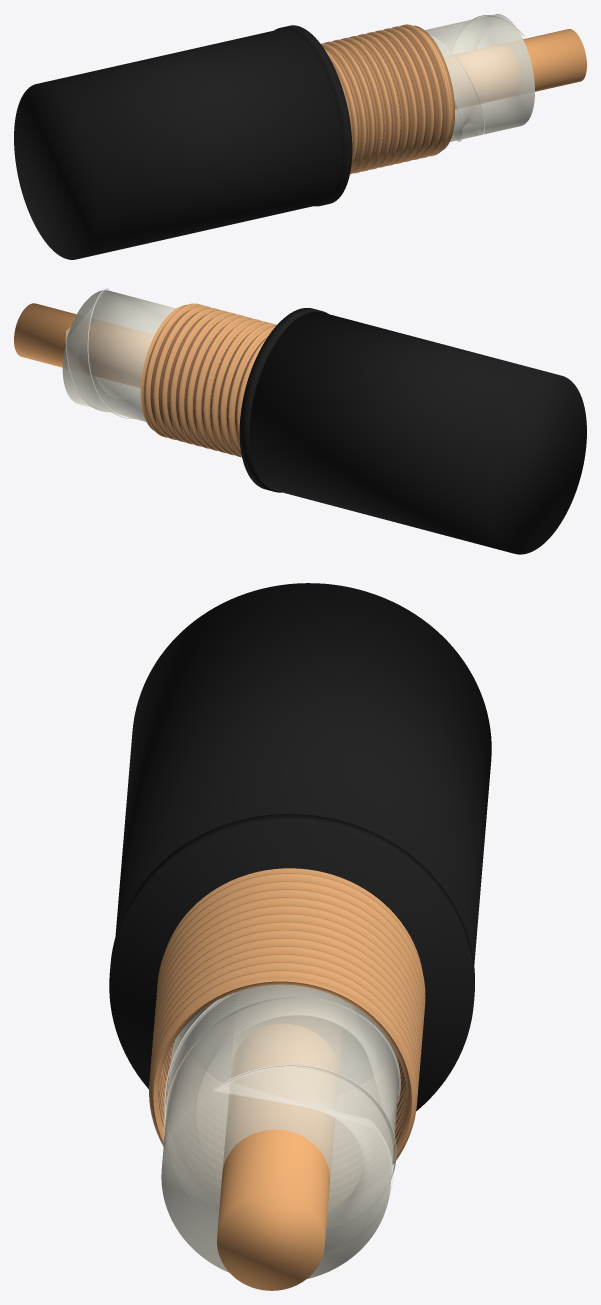
File: rf-fsj4.glb
3 views of the same model, one above another, from view 1: azimuth 30°, elevation 25°; view 2: azimuth 150°, elevation 25°; view 3: azimuth 270°, elevation 25° (orthographic). The views are drawn at different scales.
Visible parts, largest first — view 1: black PE jacket body, corrugated copper shield, foam PE dielectric, solid center conductor continuous, dark groove shadow pass, jacket cut lip, surface PTFE tape wrap; view 2: black PE jacket body, corrugated copper shield, foam PE dielectric, solid center conductor continuous, dark groove shadow pass, jacket cut lip, surface PTFE tape wrap; view 3: black PE jacket body, foam PE dielectric, corrugated copper shield, jacket cut lip, solid center conductor continuous, surface PTFE tape wrap.
Part boxes in pixels (<box>): black PE jacket body: <box>14,28,342,259</box>; corrugated copper shield: <box>321,24,454,174</box>; foam PE dielectric: <box>425,14,534,141</box>; solid center conductor continuous: <box>444,29,586,109</box>; dark groove shadow pass: <box>329,30,450,160</box>; jacket cut lip: <box>274,25,352,206</box>; surface PTFE tape wrap: <box>430,16,524,140</box>; black PE jacket body: <box>249,311,586,554</box>; corrugated copper shield: <box>140,303,276,457</box>; foam PE dielectric: <box>62,290,176,421</box>; solid center conductor continuous: <box>14,303,154,387</box>; dark groove shadow pass: <box>144,310,267,440</box>; jacket cut lip: <box>239,308,328,492</box>; surface PTFE tape wrap: <box>66,289,140,417</box>; black PE jacket body: <box>115,583,491,964</box>; foam PE dielectric: <box>161,984,399,1278</box>; corrugated copper shield: <box>149,868,425,1164</box>; jacket cut lip: <box>109,814,474,1111</box>; solid center conductor continuous: <box>217,1024,338,1290</box>; surface PTFE tape wrap: <box>164,985,400,1243</box>.
Bounding box in the file's own units: 6.69 × 2.07 × 2.17.
